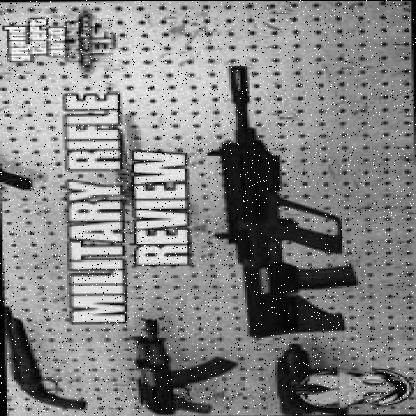rifle: (208, 60, 358, 333)
